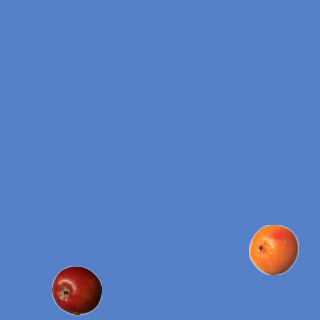Apple Braeburn: (51, 265, 101, 315)
Grapefruit Pink: (248, 224, 298, 274)
